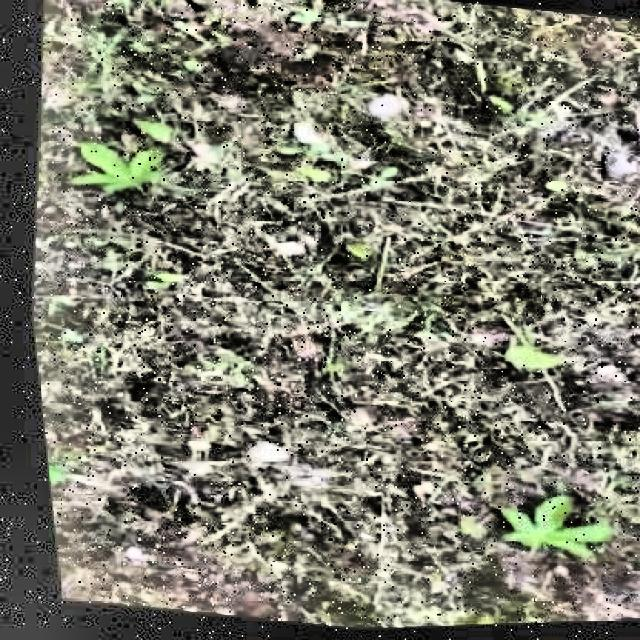Weeds: (475, 482, 603, 570), (58, 128, 165, 202)
